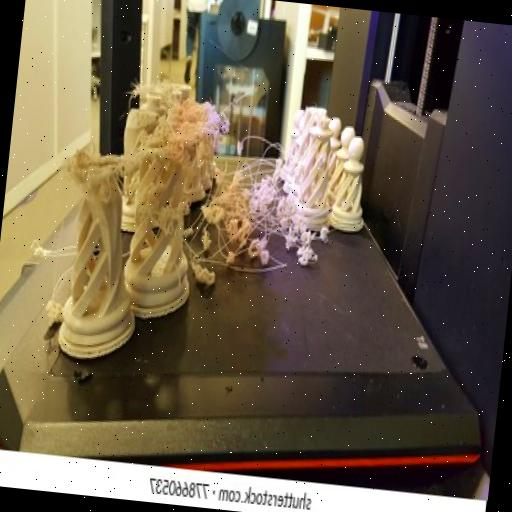spaghetti: (194, 154, 324, 328), (134, 74, 230, 178), (59, 125, 134, 209)
